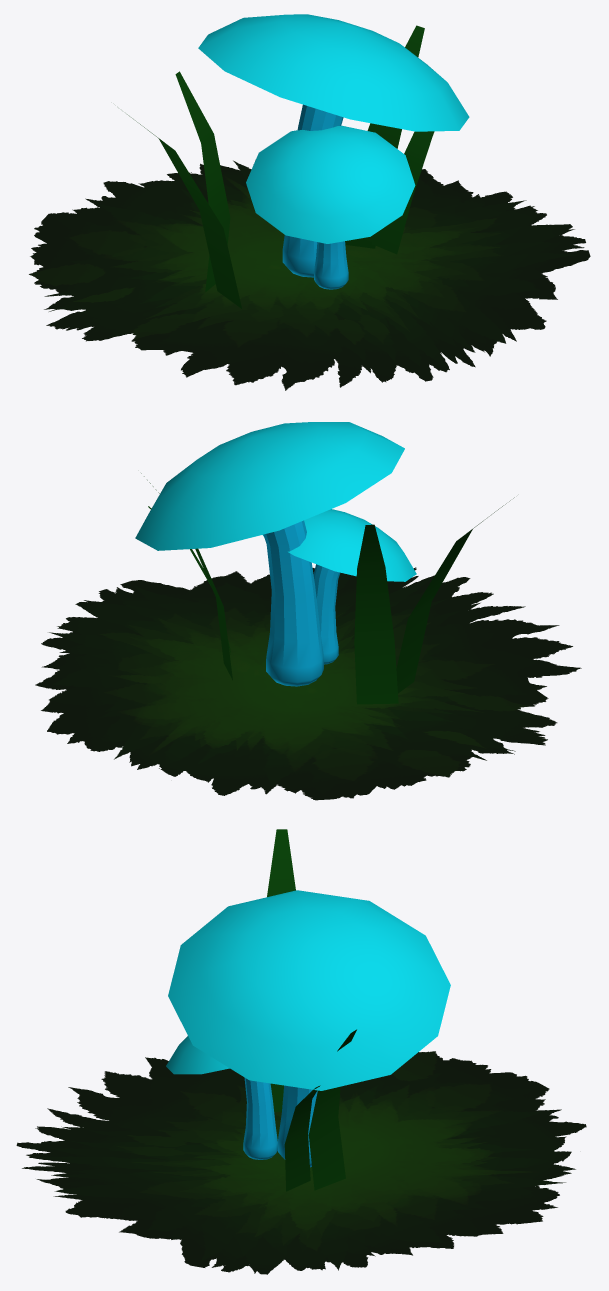
Rendered from shroom_clump.fbx.
The picture shows the model from 3 angles, top to bottom: view 1: azimuth 30°, elevation 25°; view 2: azimuth 150°, elevation 25°; view 3: azimuth 270°, elevation 25°; orthographic projection.
Parts seen in each view (by area): view 1: pDisc1, shroom_caps, shroom_stems, pPlane1, pPlane2, pPlane3, pPlane4; view 2: pDisc1, shroom_caps, shroom_stems, pPlane2, pPlane1, pPlane4; view 3: pDisc1, shroom_caps, shroom_stems, pPlane4, pPlane3, pPlane1.
Part boxes in pixels (x1,y1,x2,y2): pDisc1: (29,160,590,390); shroom_caps: (198,14,469,243); shroom_stems: (282,104,348,289); pPlane1: (127,114,241,308); pPlane2: (175,71,230,291); pPlane3: (372,131,434,254); pPlane4: (345,25,424,248); pDisc1: (35,567,581,800); shroom_caps: (135,422,416,581); shroom_stems: (263,520,340,686); pPlane2: (354,524,398,704); pPlane1: (396,497,514,693); pPlane4: (141,473,232,680); pDisc1: (16,1051,586,1274); shroom_caps: (166,890,450,1090); shroom_stems: (243,1077,317,1167); pPlane4: (308,1029,356,1190); pPlane3: (284,1085,320,1191); pPlane1: (267,829,295,1111).
Bounding box in the file's own units: 16.42 × 8.22 × 16.42.
